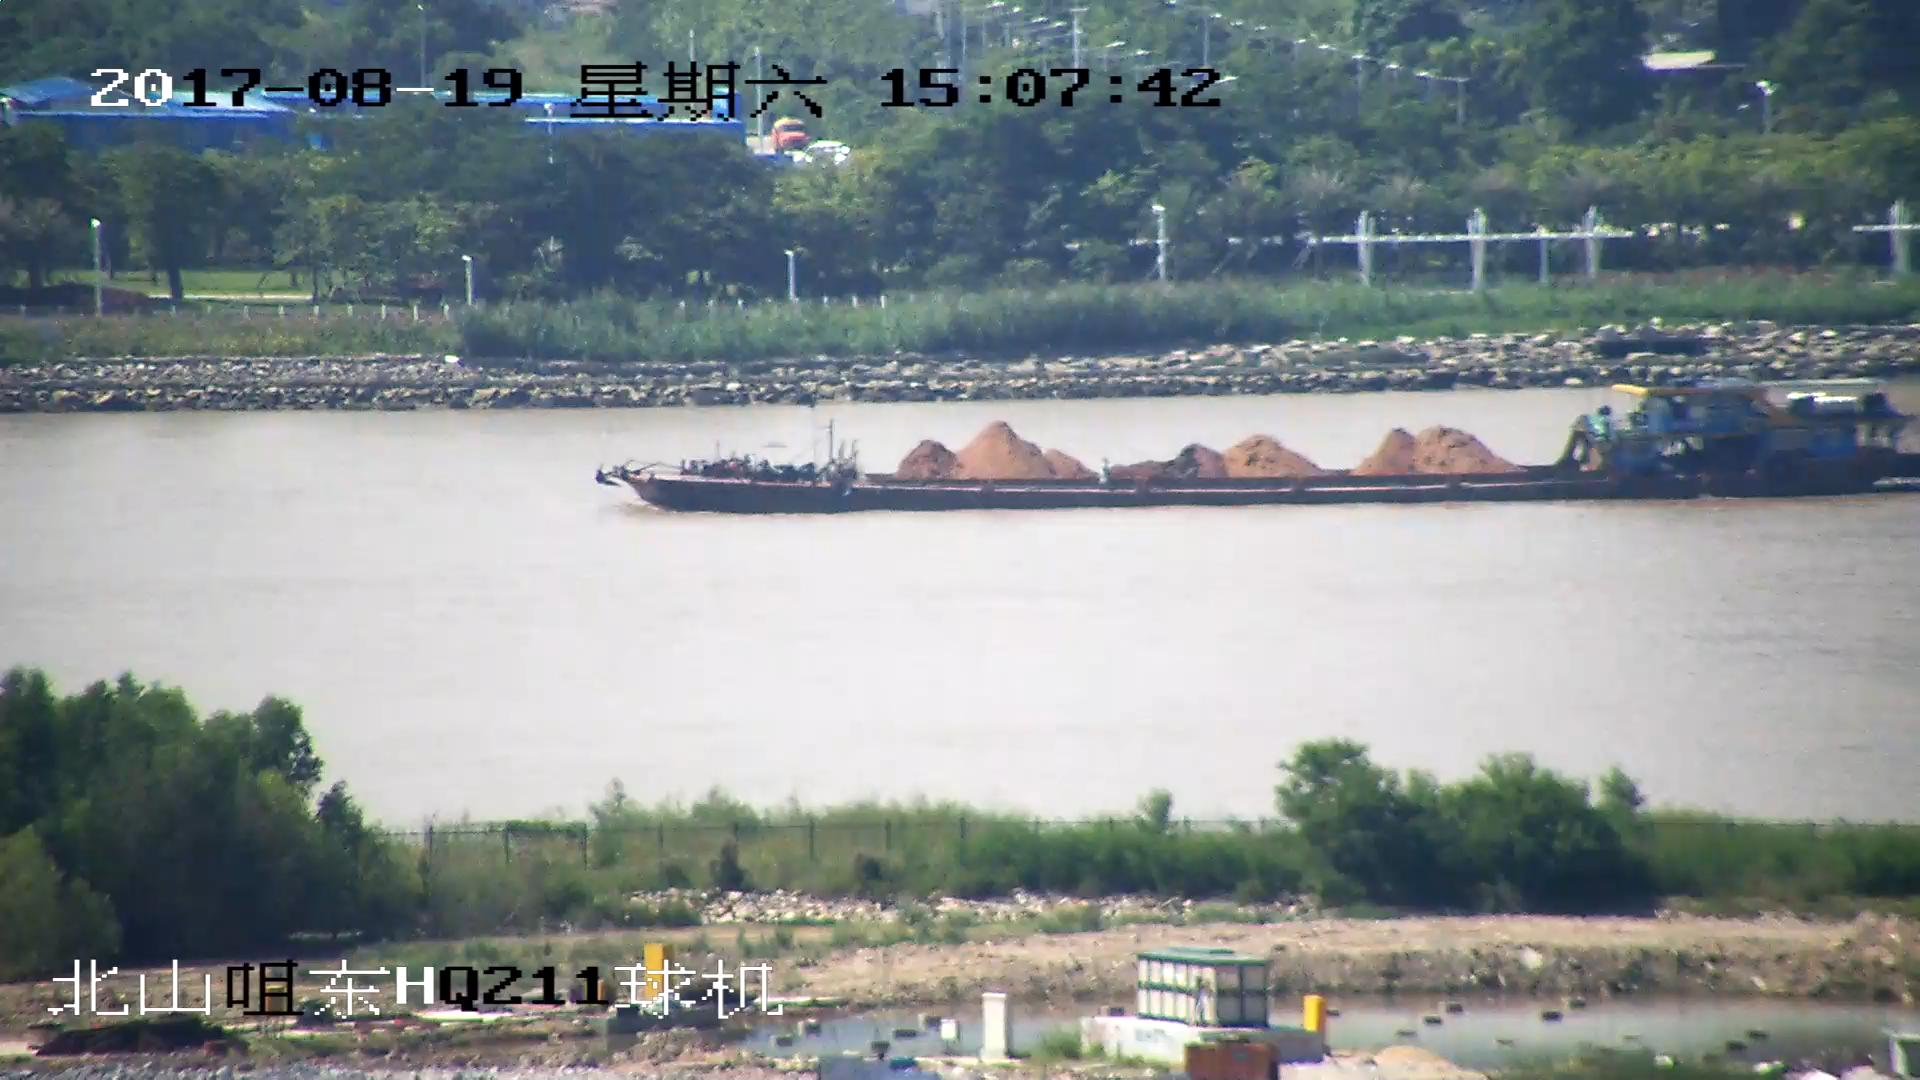ore carrier: (591, 380, 1920, 513)
